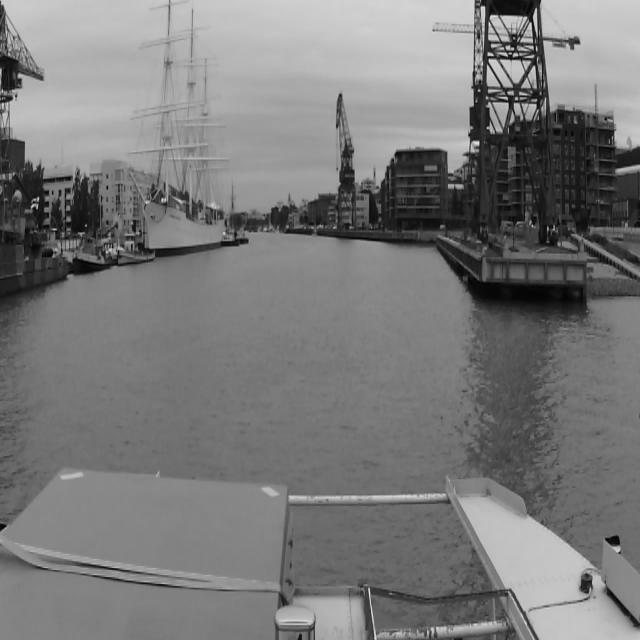ship: (130, 10, 226, 248), (6, 180, 67, 296), (114, 229, 156, 267), (74, 236, 106, 270), (222, 234, 240, 246), (236, 228, 248, 245)
